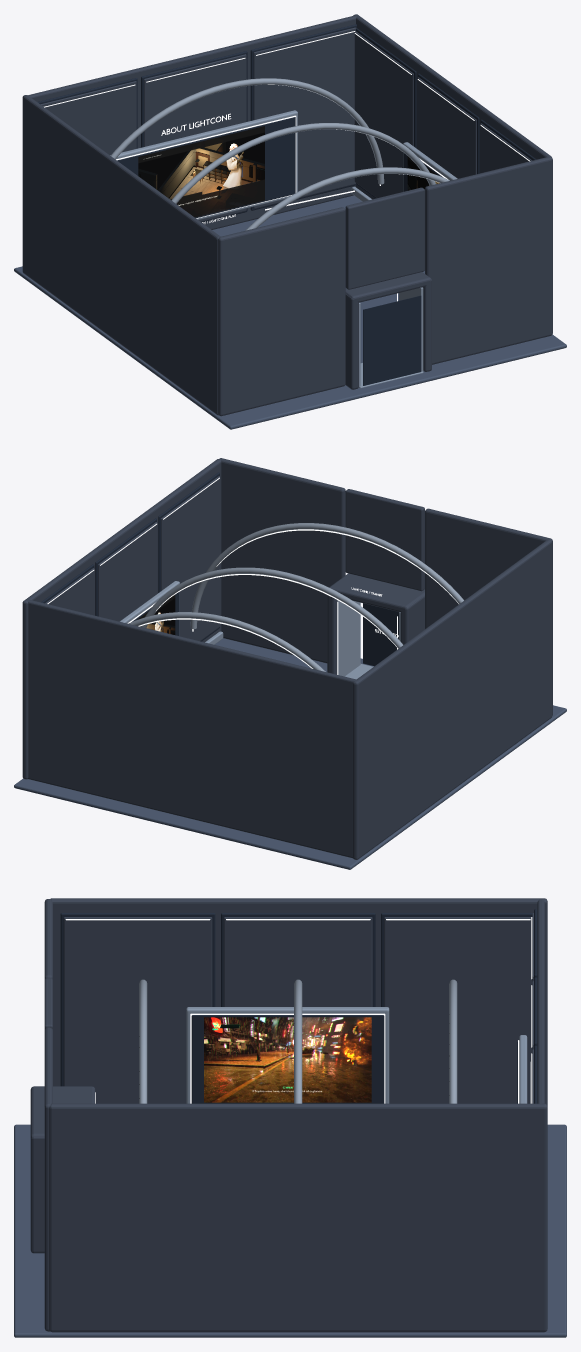
Rendered from atrium.glb.
3 views of the same model, one above another, from view 1: azimuth 30°, elevation 25°; view 2: azimuth 150°, elevation 25°; view 3: azimuth 270°, elevation 25° (orthographic). The views are drawn at different scales.
Parts seen in each view (by area): view 1: V14 atrium / V14 atrium / shell.004 finish, V14 atrium / Lateral hull.008, V14 atrium / Rear hull wing.008, V14 atrium / Rear hull wing.009, V14 atrium / Continuous satin deck.004, V14 atrium / Original artwork / providence-story.008, V14 atrium / V14 atrium / dark.004 finish, V14 atrium / Front hull.004, V14 atrium / Return aperture.004, V14 atrium / Lateral hull.009, V14 atrium / V14 atrium / metal.004 finish, V14 atrium / Canopy structural arch.015 (+4 smaller); view 2: V14 atrium / Front hull.004, V14 atrium / Lateral hull.008, V14 atrium / V14 atrium / shell.004 finish, V14 atrium / Rear hull wing.009, V14 atrium / Rear hull wing.008, V14 atrium / Continuous satin deck.004, V14 atrium / Lateral hull.009, V14 atrium / V14 atrium / metal.004 finish, V14 atrium / Canopy structural arch.017, V14 atrium / Canopy structural arch.016, V14 atrium / Return aperture.004, V14 atrium / V14 atrium / dark.004 finish (+2 smaller); view 3: V14 atrium / Lateral hull.009, V14 atrium / V14 atrium / shell.004 finish, V14 atrium / Original artwork / blackpulse-city.004, V14 atrium / Continuous satin deck.004, V14 atrium / Lateral hull.008, V14 atrium / V14 atrium / dark.004 finish, V14 atrium / V14 atrium / metal.004 finish, V14 atrium / Rear hull wing.009, V14 atrium / Front hull.004, V14 atrium / V14 atrium / white.004 finish, V14 atrium / Canopy structural arch.016, V14 atrium / Canopy structural arch.017 (+3 smaller).
Boxes of the visible parts, x1,y1,x2,y2 form: V14 atrium / V14 atrium / shell.004 finish: [40, 27, 532, 389]; V14 atrium / Lateral hull.008: [22, 95, 220, 415]; V14 atrium / Rear hull wing.008: [218, 207, 345, 416]; V14 atrium / Rear hull wing.009: [425, 156, 552, 364]; V14 atrium / Continuous satin deck.004: [14, 195, 566, 429]; V14 atrium / Original artwork / providence-story.008: [138, 126, 264, 217]; V14 atrium / V14 atrium / dark.004 finish: [37, 24, 536, 222]; V14 atrium / Front hull.004: [27, 15, 356, 229]; V14 atrium / Return aperture.004: [363, 295, 421, 385]; V14 atrium / Lateral hull.009: [353, 14, 551, 199]; V14 atrium / V14 atrium / metal.004 finish: [110, 110, 457, 388]; V14 atrium / Canopy structural arch.015: [110, 78, 384, 184]; V14 atrium / Front hull.004: [27, 599, 356, 858]; V14 atrium / Lateral hull.008: [352, 539, 552, 859]; V14 atrium / V14 atrium / shell.004 finish: [45, 476, 424, 674]; V14 atrium / Rear hull wing.009: [219, 458, 345, 663]; V14 atrium / Rear hull wing.008: [425, 508, 552, 715]; V14 atrium / Continuous satin deck.004: [14, 638, 566, 869]; V14 atrium / Lateral hull.009: [22, 459, 221, 779]; V14 atrium / V14 atrium / metal.004 finish: [120, 581, 400, 679]; V14 atrium / Canopy structural arch.017: [190, 523, 463, 629]; V14 atrium / Canopy structural arch.016: [140, 567, 402, 648]; V14 atrium / Return aperture.004: [363, 603, 398, 666]; V14 atrium / V14 atrium / dark.004 finish: [41, 472, 219, 641]; V14 atrium / Lateral hull.009: [49, 1103, 547, 1332]; V14 atrium / V14 atrium / shell.004 finish: [30, 913, 533, 1253]; V14 atrium / Original artwork / blackpulse-city.004: [204, 1017, 371, 1102]; V14 atrium / Continuous satin deck.004: [14, 1124, 566, 1337]; V14 atrium / Lateral hull.008: [50, 898, 547, 1105]; V14 atrium / V14 atrium / dark.004 finish: [60, 909, 537, 1103]; V14 atrium / V14 atrium / metal.004 finish: [186, 1007, 527, 1103]; V14 atrium / Rear hull wing.009: [44, 1027, 52, 1331]; V14 atrium / Front hull.004: [537, 899, 544, 1103]; V14 atrium / V14 atrium / white.004 finish: [65, 917, 532, 1103]; V14 atrium / Canopy structural arch.016: [294, 979, 302, 1103]; V14 atrium / Canopy structural arch.017: [139, 979, 147, 1103].
Size of the model in its own units: 19.2 by 9.9 by 21.4.
Materials: 10 (3 with a texture image).
